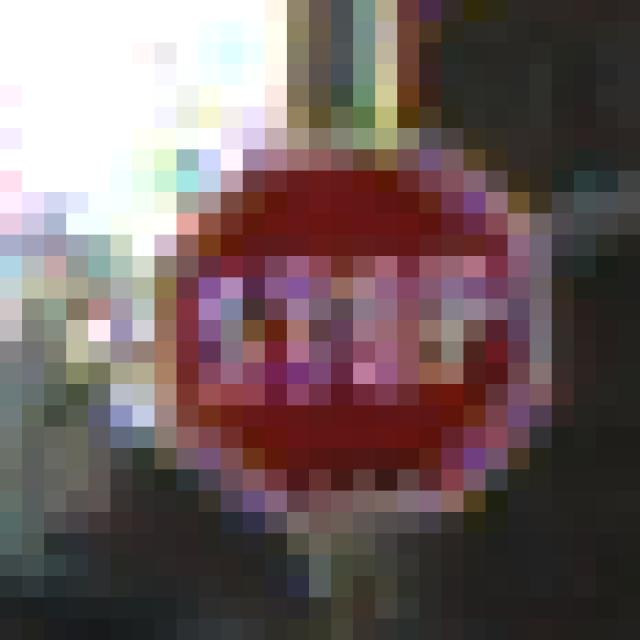STOP: (111, 108, 531, 513)
